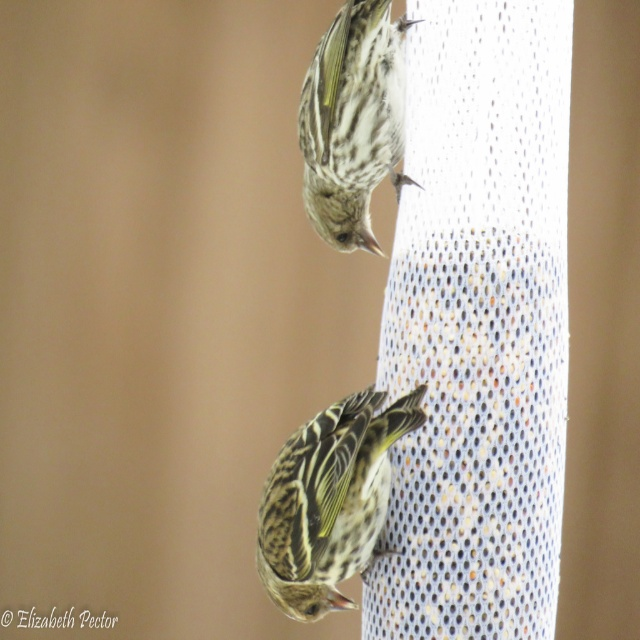Sparrow: (252, 379, 426, 626), (295, 0, 422, 258)
